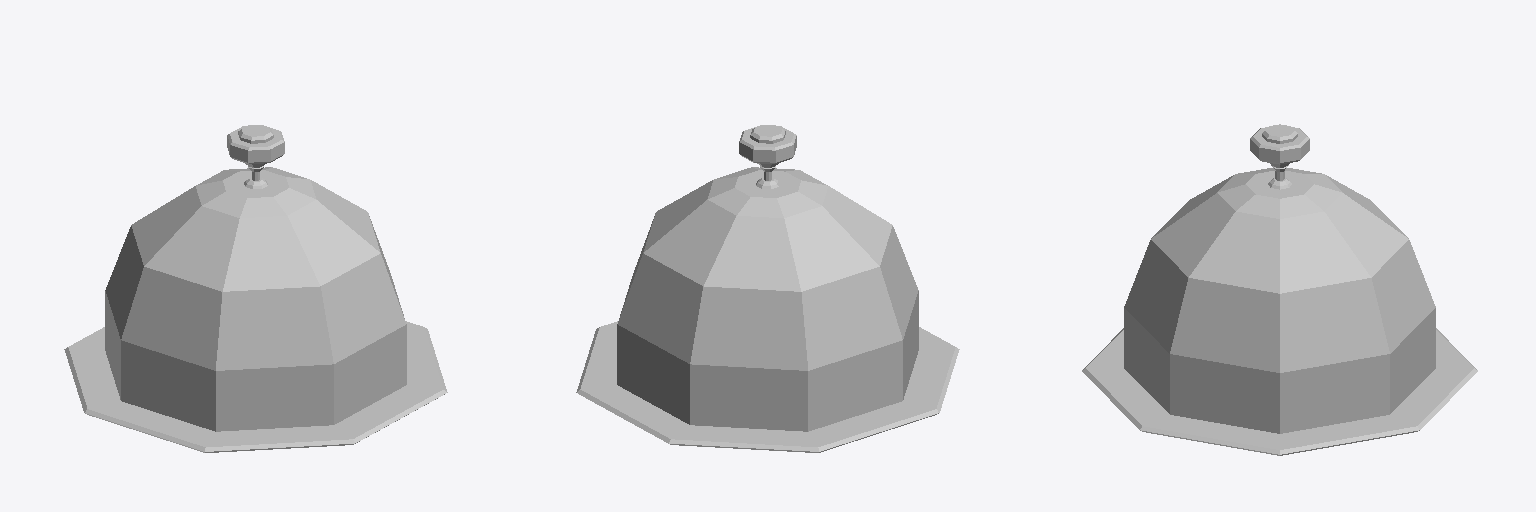
Rendered from misc_cloche.obj.
The picture shows the model from 3 angles: view 1: azimuth 30°, elevation 25°; view 2: azimuth 150°, elevation 25°; view 3: azimuth 270°, elevation 25°; orthographic projection.
Parts seen in each view (by area): view 1: misc_cloche_Cylinder.015, misc_cloche_plate_Cylinder.014; view 2: misc_cloche_Cylinder.015, misc_cloche_plate_Cylinder.014; view 3: misc_cloche_Cylinder.015, misc_cloche_plate_Cylinder.014.
Part boxes in pixels (bbox=[...]): misc_cloche_Cylinder.015: bbox=[105, 125, 406, 431]; misc_cloche_plate_Cylinder.014: bbox=[64, 321, 447, 452]; misc_cloche_Cylinder.015: bbox=[617, 125, 918, 431]; misc_cloche_plate_Cylinder.014: bbox=[576, 321, 959, 452]; misc_cloche_Cylinder.015: bbox=[1124, 124, 1435, 433]; misc_cloche_plate_Cylinder.014: bbox=[1082, 328, 1477, 455].
Bounding box in the file's own units: 9.26 × 6.46 × 9.26.